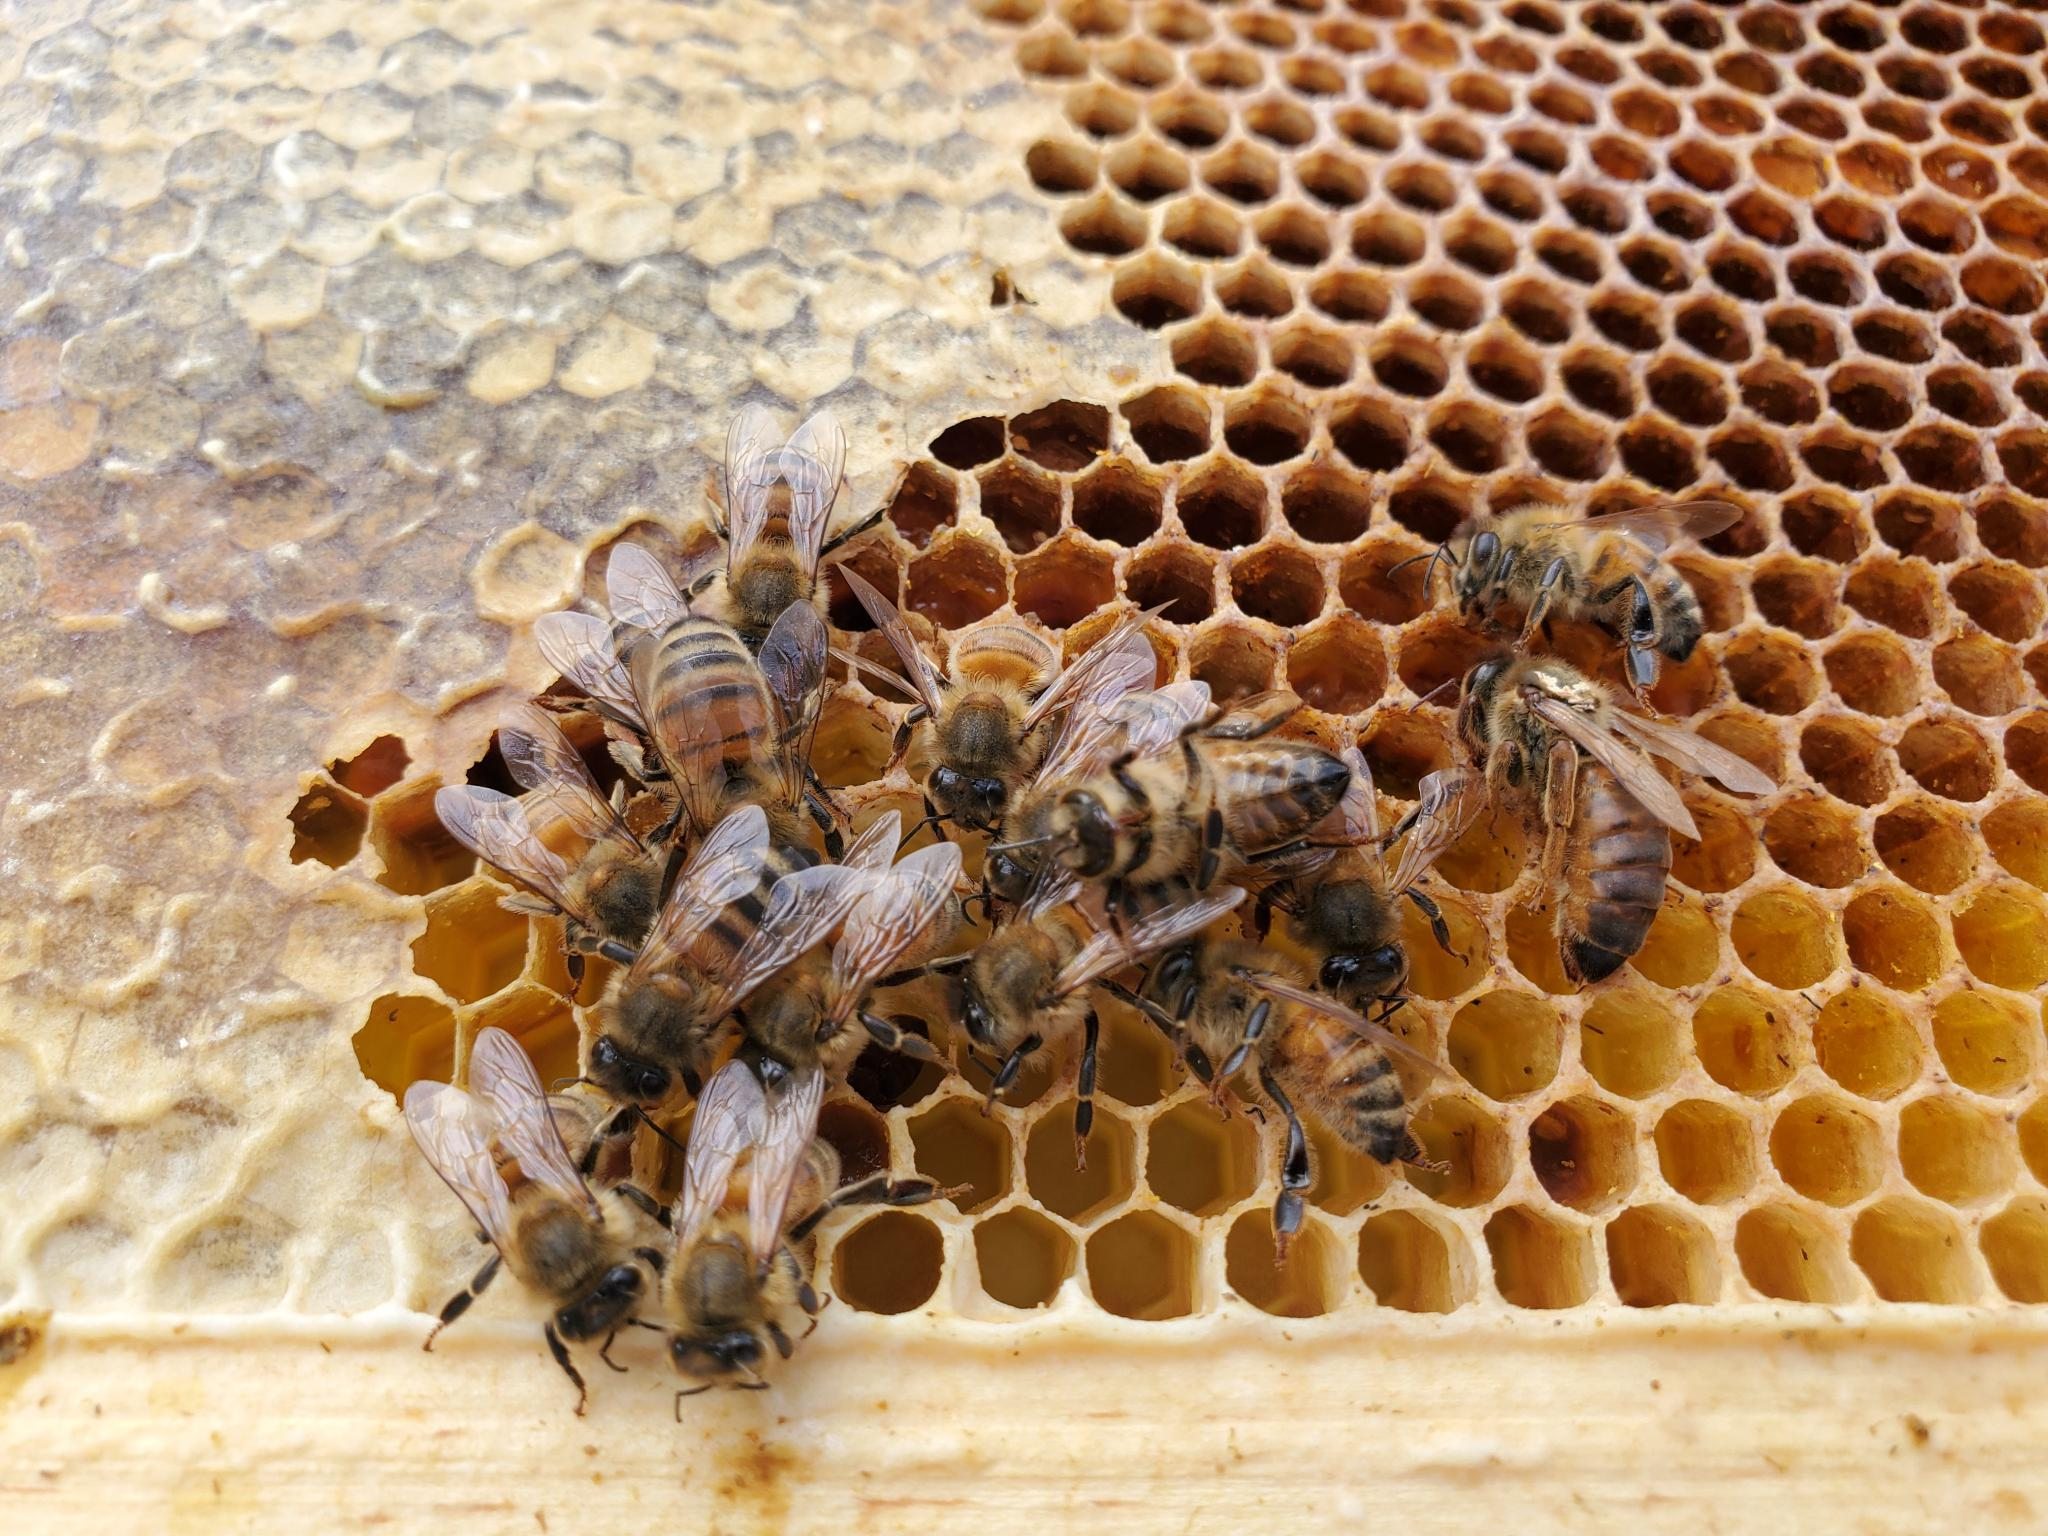bee: (1461, 657, 1671, 983), (589, 854, 806, 1104), (742, 865, 963, 1108), (1163, 944, 1406, 1165), (651, 620, 818, 876), (955, 881, 1209, 1042), (989, 695, 1185, 899), (487, 1094, 640, 1341), (1055, 747, 1347, 874), (674, 1141, 827, 1383), (1467, 518, 1705, 660), (510, 779, 674, 952), (926, 628, 1059, 815), (727, 444, 830, 666), (1301, 786, 1403, 995), (611, 603, 718, 771)
